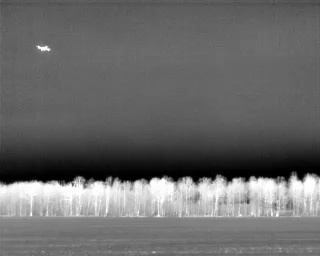DRONE: (33, 41, 54, 57)
